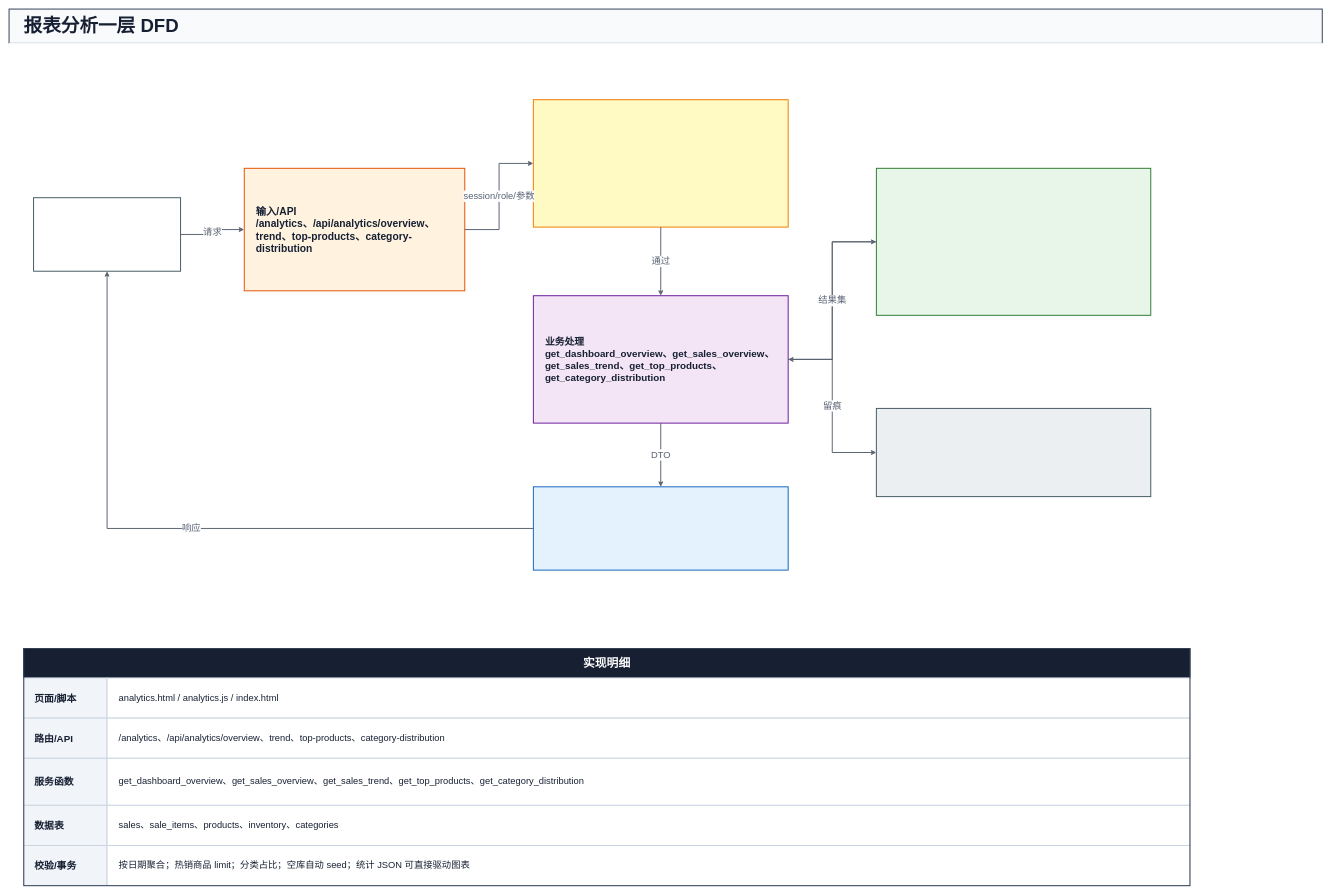
Some shapes in this 1331 by 894 pixel diagram are drawn without their labels. Here are the shapes that lost their labels. From the top down, the box of each, then its label:
(8, 43, 1323, 63): 数据流图｜输入、处理、数据存储、输出、审计
(533, 99, 788, 227): 权限与参数校验 按日期聚合；热销商品 limit；分类占比；空库自动 seed；统计 JSON 可直接驱动图表
(33, 197, 181, 271): 外部参与者 管理员 / 收银员 / 店长 / 财务
(876, 168, 1151, 316): 数据存储 sales、sale_items、products、inventory、categories
(876, 408, 1151, 497): 审计与状态 库存流水 / 公告已读 / 财务对账 / 操作时间戳
(533, 486, 788, 570): 输出 分页列表 / 明细 DTO / 统计 JSON / message
